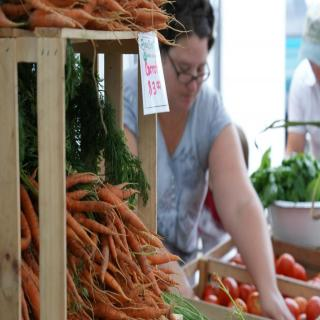Carrot: (22, 166, 194, 320), (0, 0, 194, 58), (20, 162, 41, 320)
